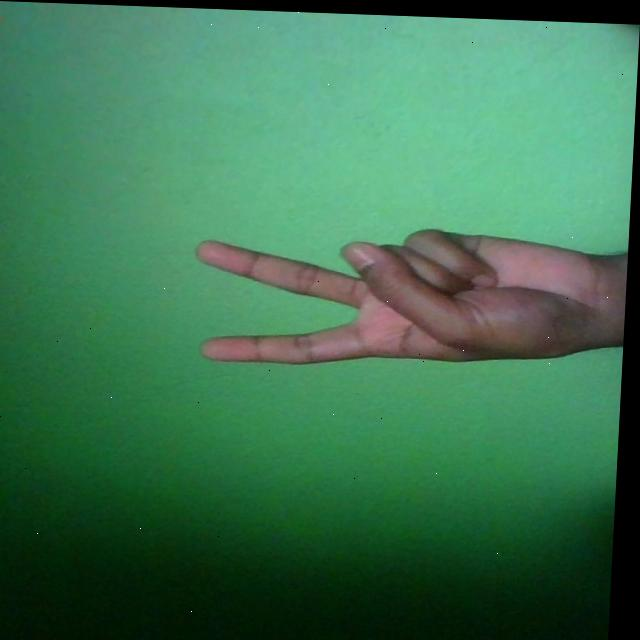Peace: (194, 218, 618, 370)
